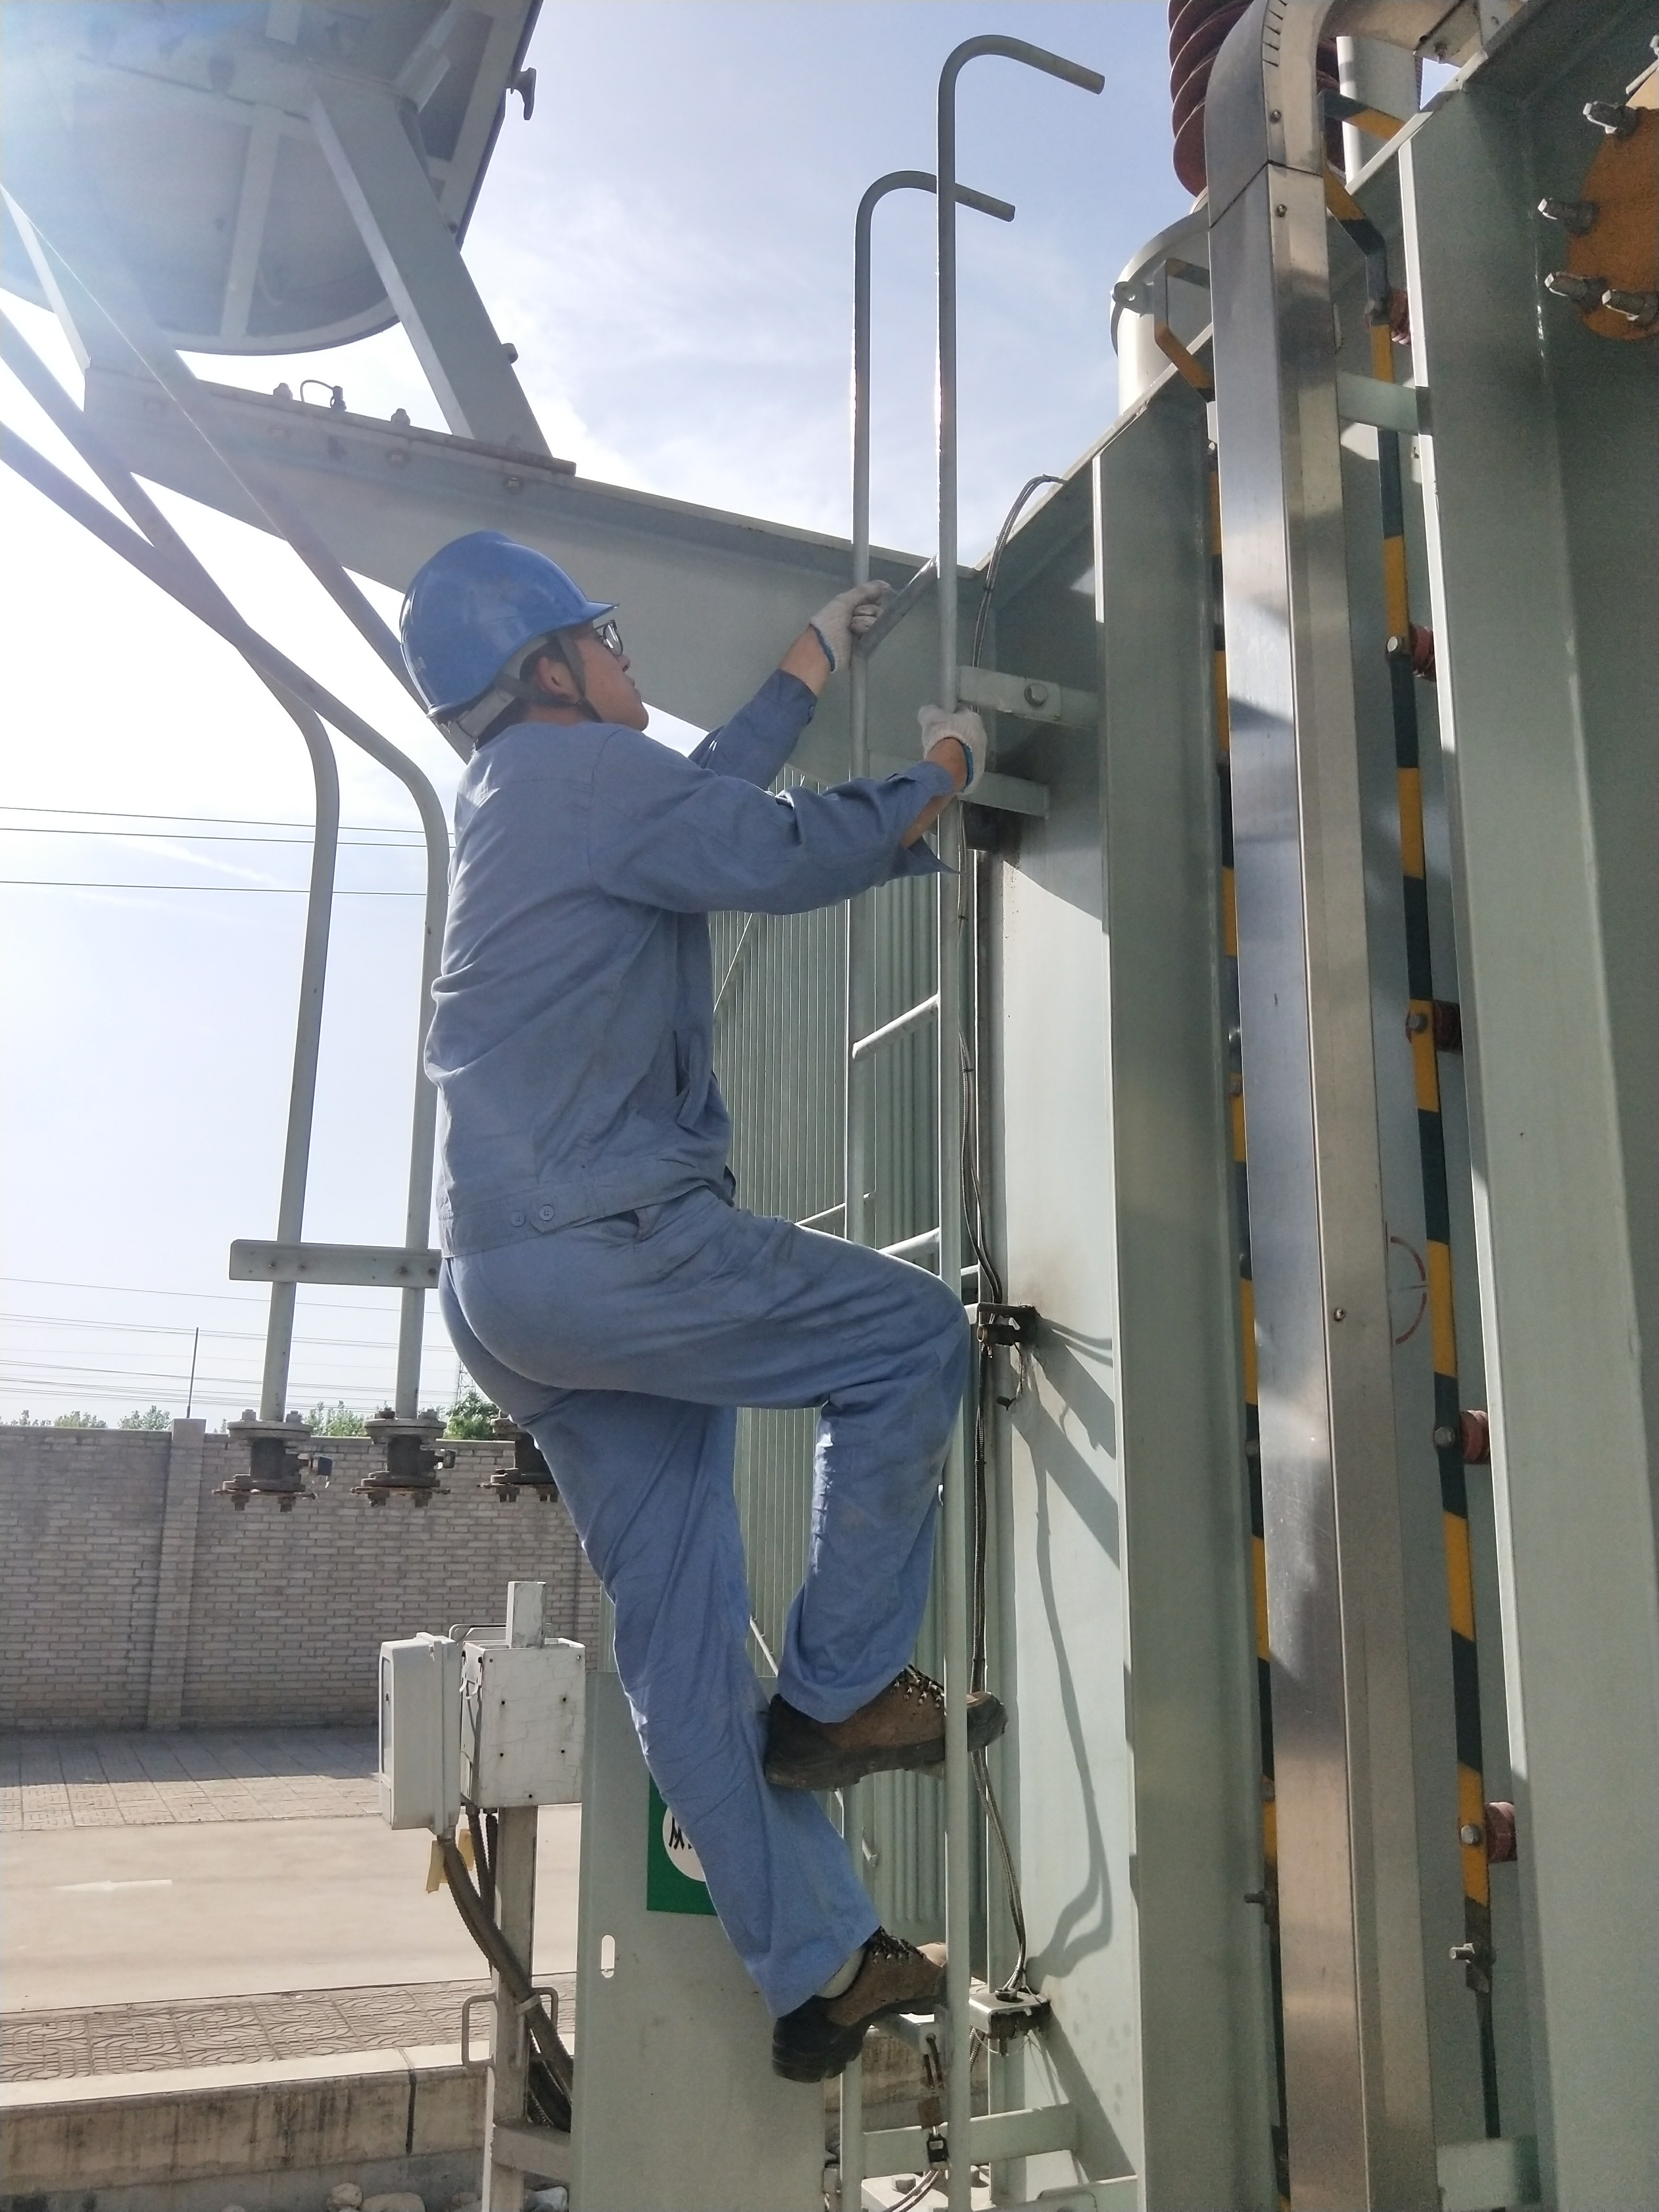hat: (392, 523, 650, 749)
